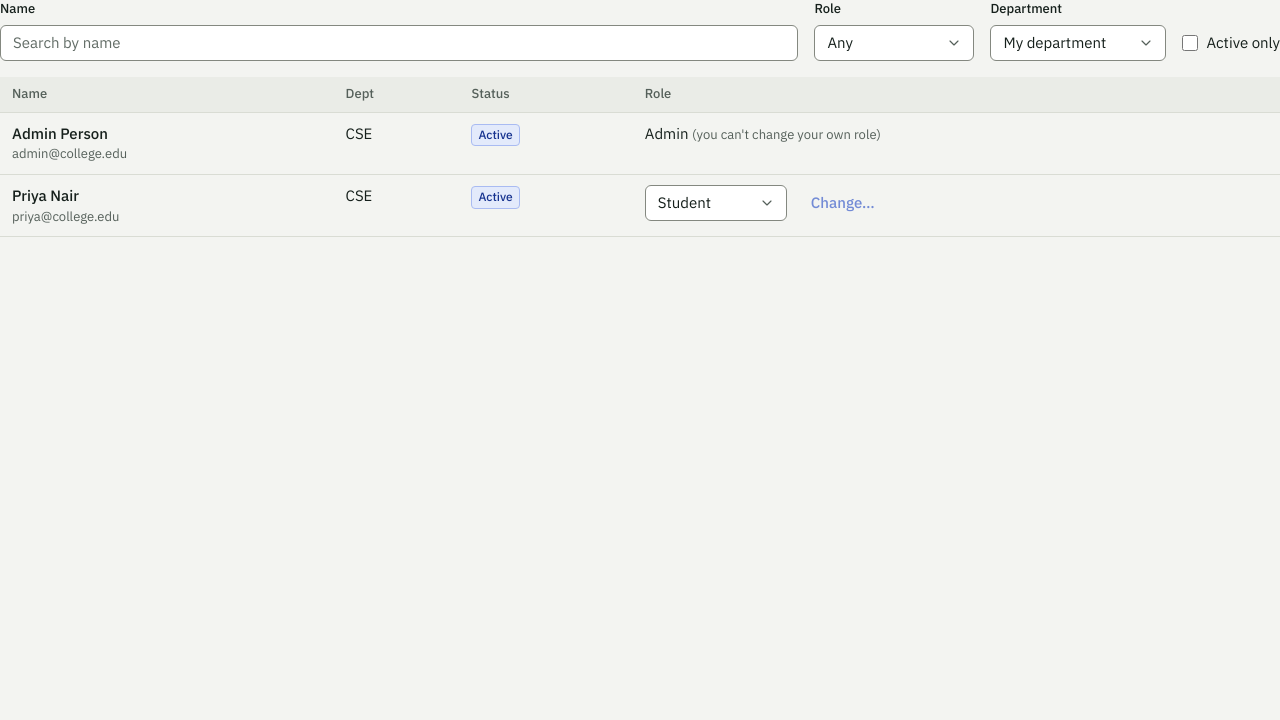
Test case: users tab › explains a refused change
Select "Admin" in the dropdown named "Role for Priya Nair". click: (716, 203)
box: [645,185,787,221]
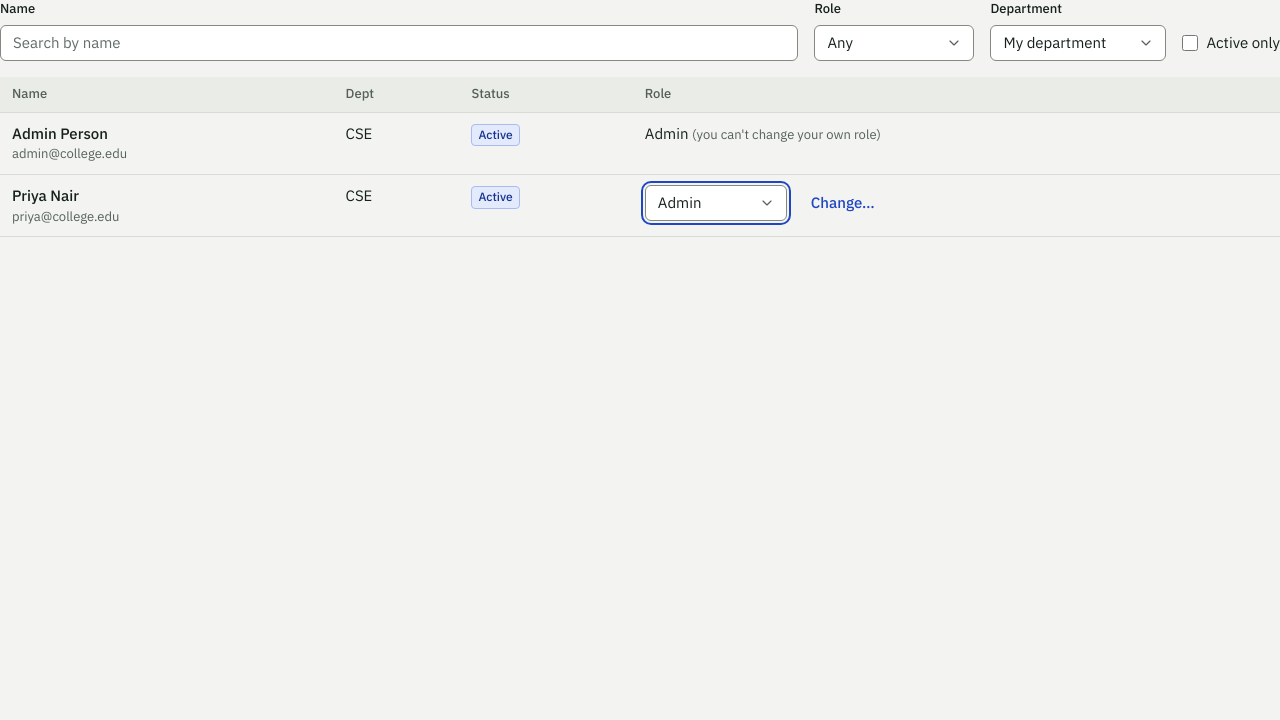
Click the button "Change…". click: (843, 203)
box: [795,185,891,221]
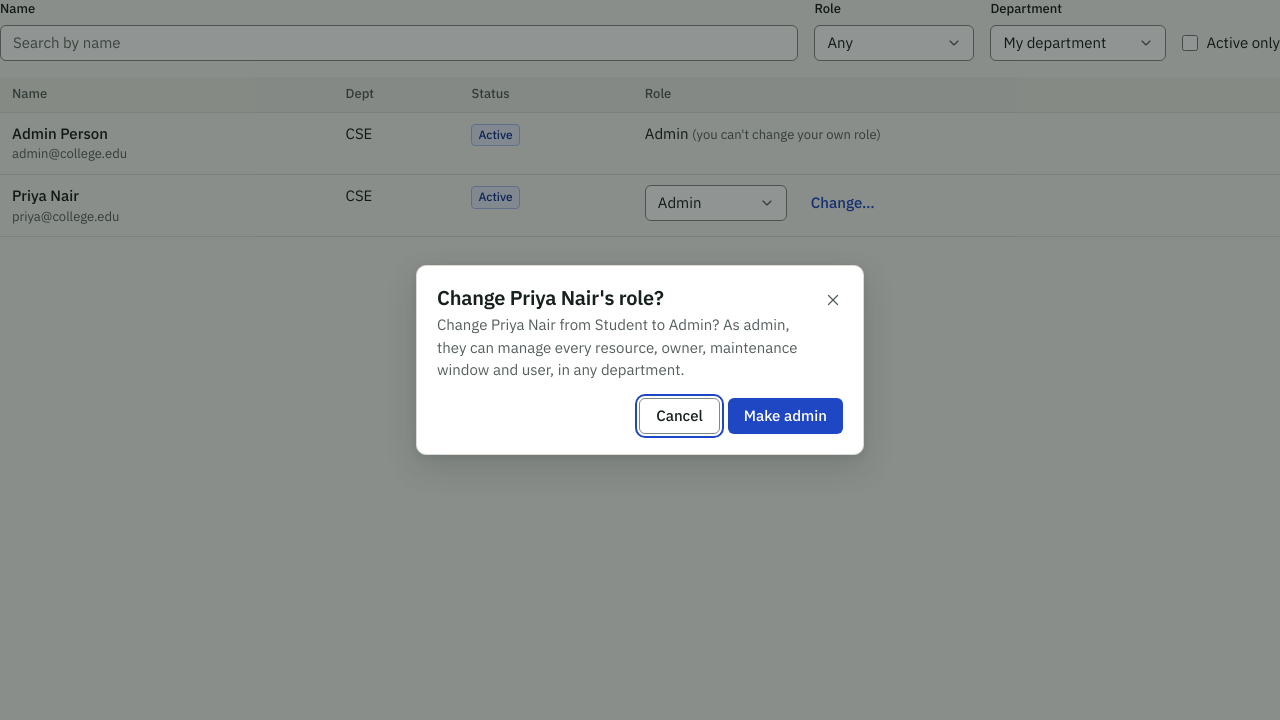
Click the button "Make admin". click: (785, 416)
box: [728,398,843,434]
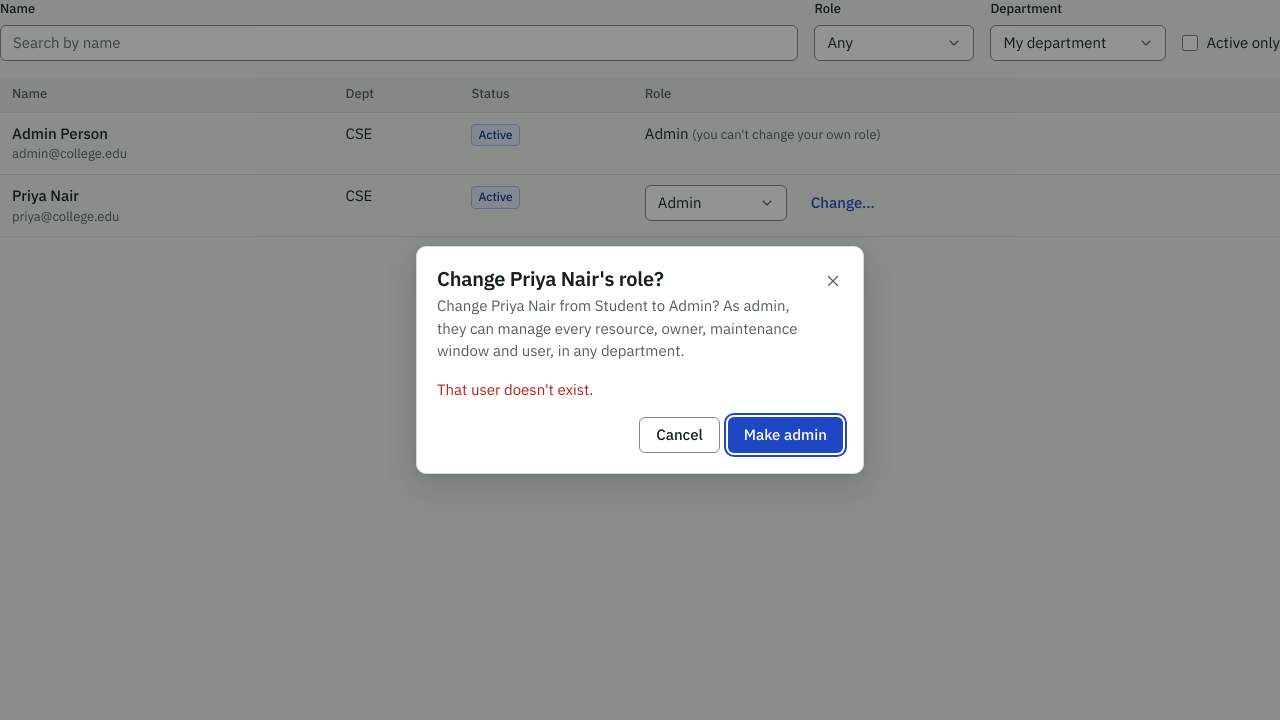
Expected: the text "That user doesn't exist." is shown, [437,380,593,398]
